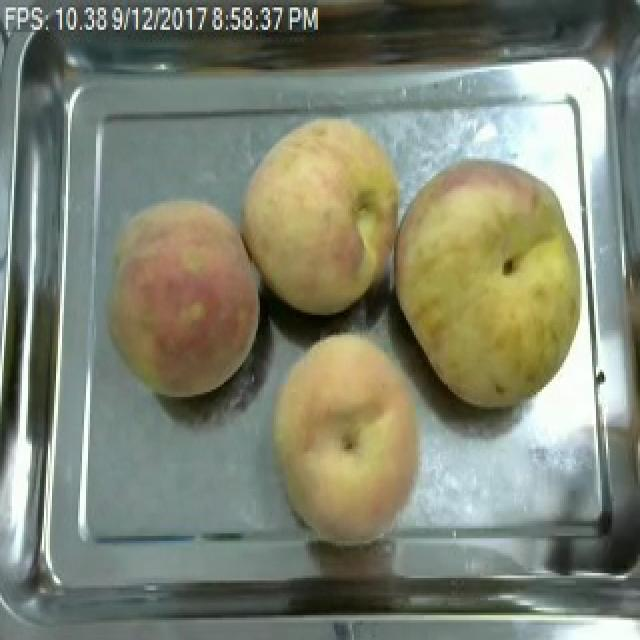Fruit: (382, 151, 594, 417), (234, 109, 412, 323), (262, 328, 434, 548), (98, 191, 270, 404)
